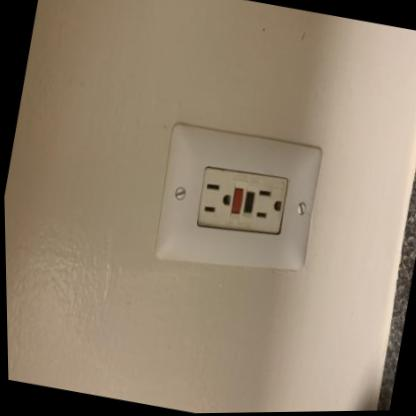OUTLET: (146, 118, 327, 278)
